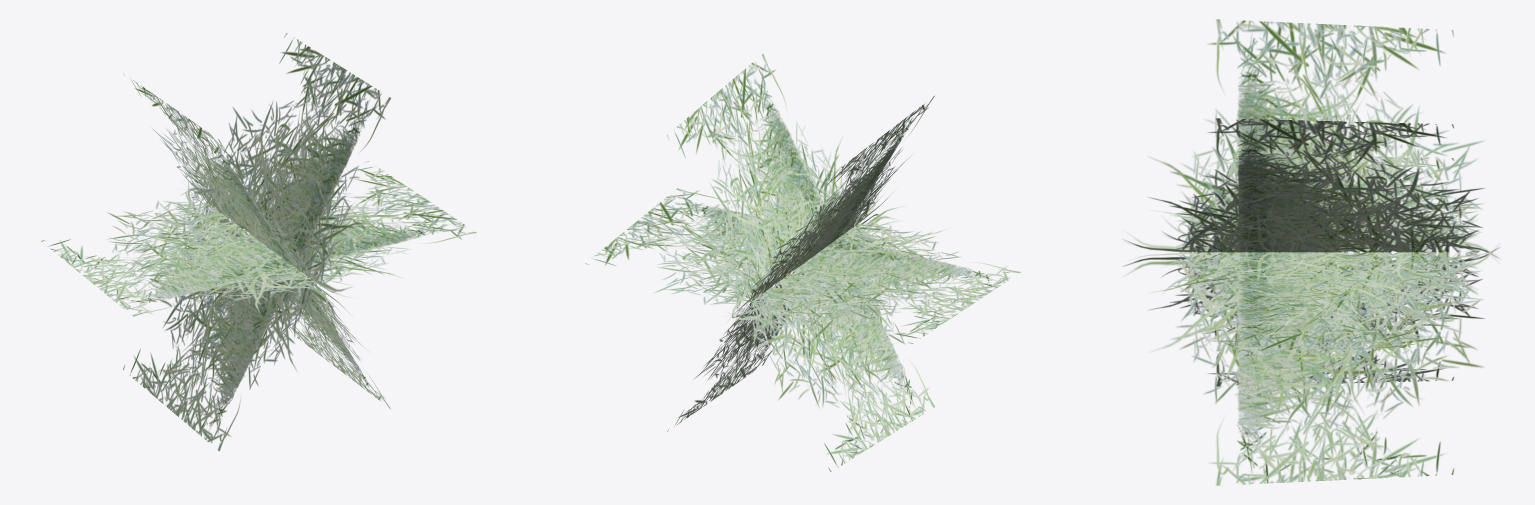
File: GrassCard_Wild.glb
3 views of the same model, side by side, from view 1: azimuth 30°, elevation 25°; view 2: azimuth 150°, elevation 25°; view 3: azimuth 270°, elevation 25° (orthographic). The views are drawn at different scales.
Parts seen in each view (by area): view 1: GrassCard_Wild; view 2: GrassCard_Wild; view 3: GrassCard_Wild.
Part boxes in pixels (bbox=[...]): GrassCard_Wild: bbox=[41, 33, 476, 451]; GrassCard_Wild: bbox=[585, 53, 1020, 471]; GrassCard_Wild: bbox=[1122, 19, 1500, 485].
Size of the model in its own units: 0.4 by 0.3464 by 0.35.
1 material, 1 textured.
